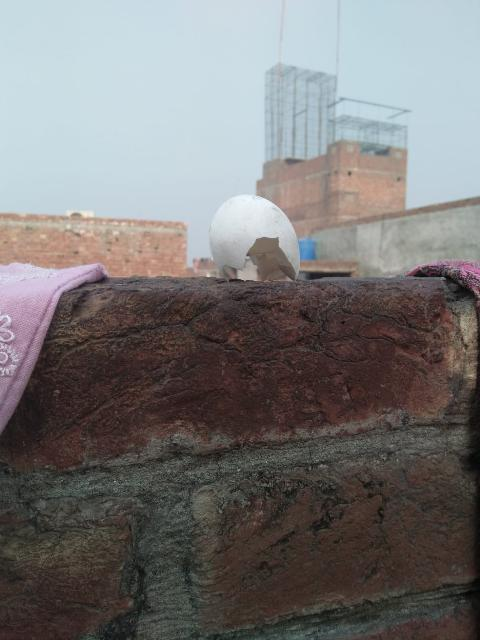Roto: (208, 193, 301, 282)
